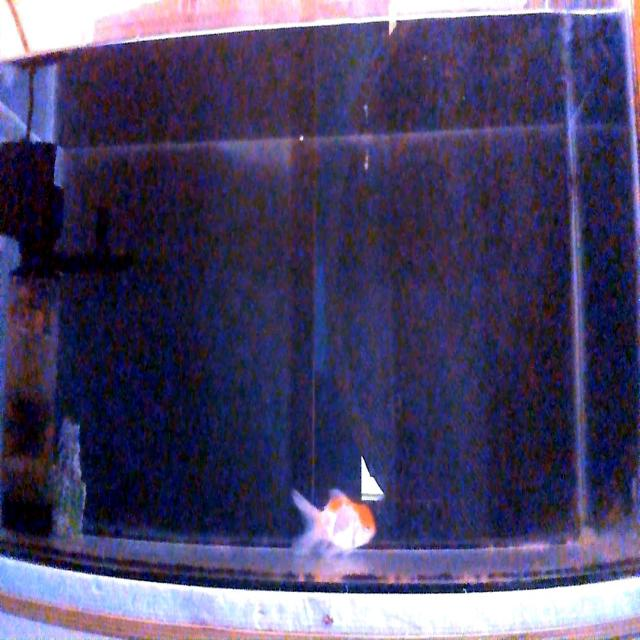fish: (291, 486, 378, 557)
